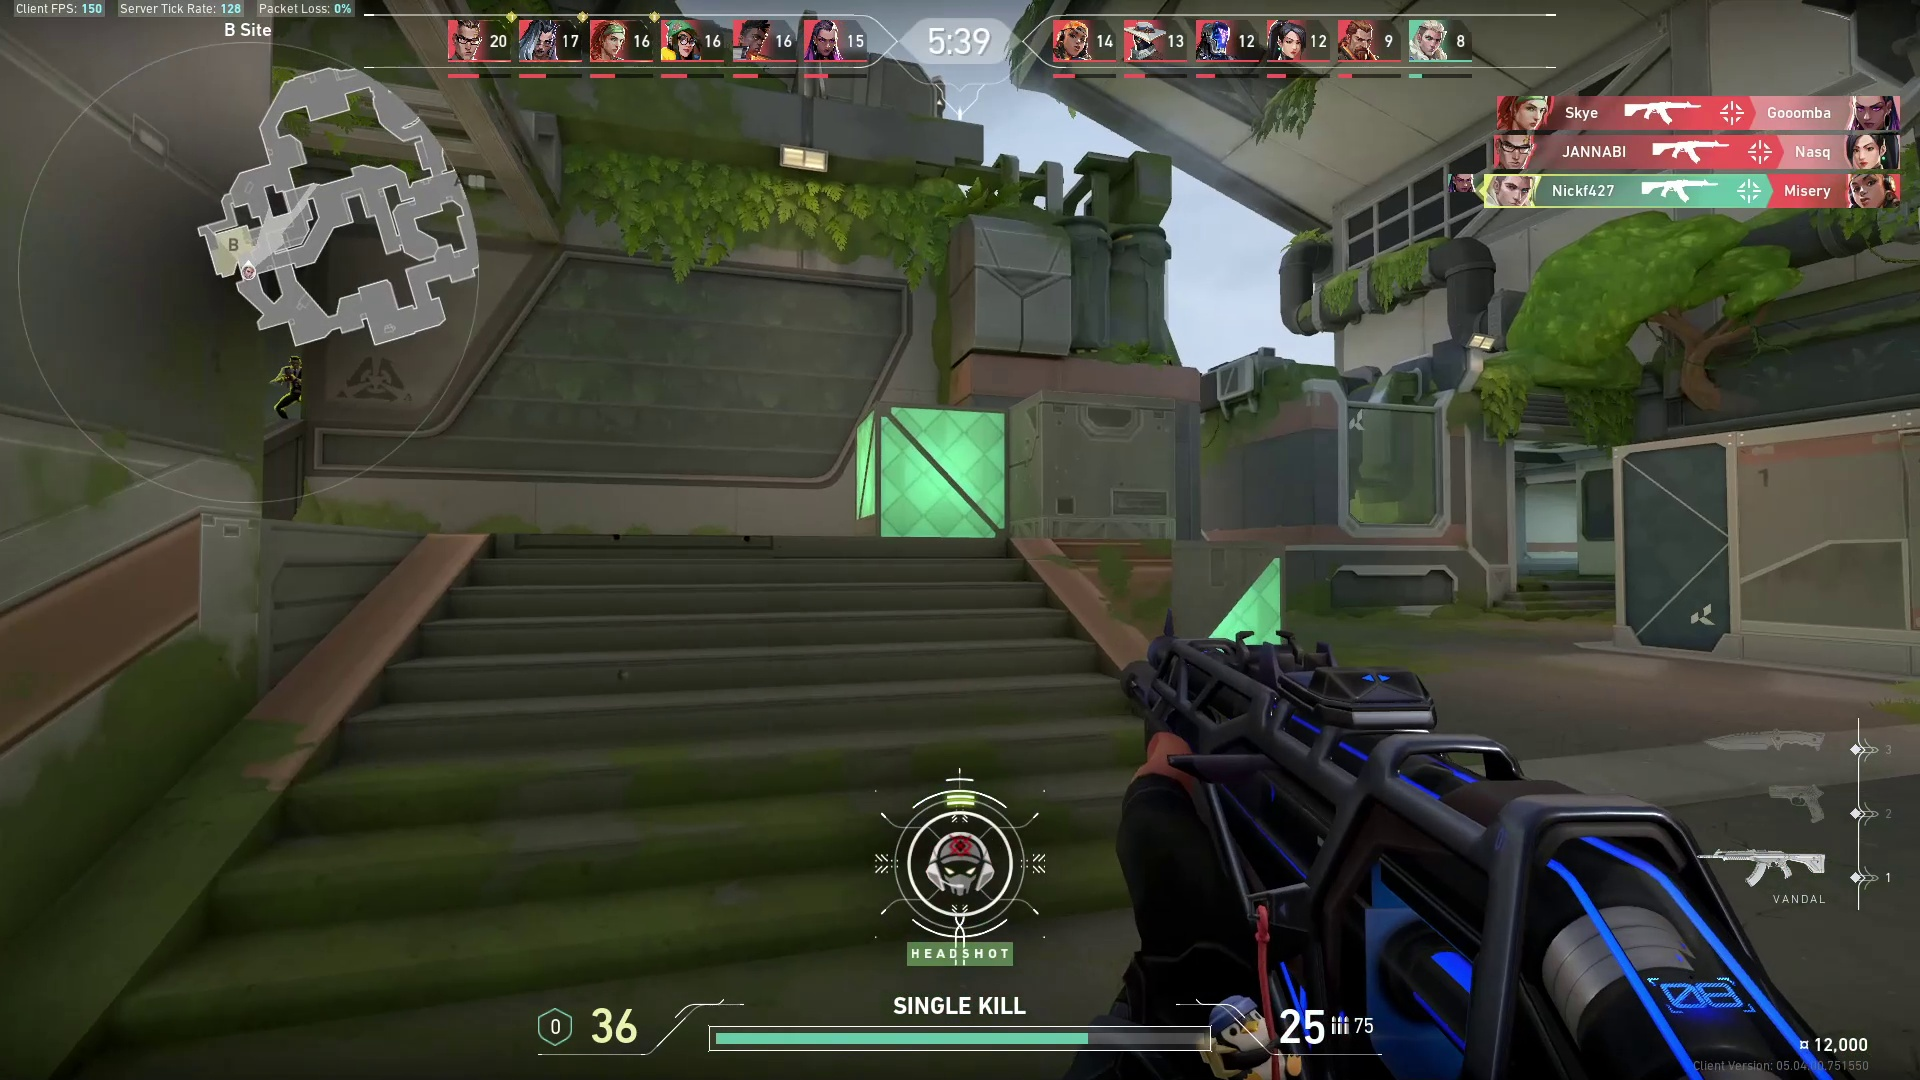enemy_body: (270, 366, 304, 420)
enemy_head: (287, 353, 302, 370)
